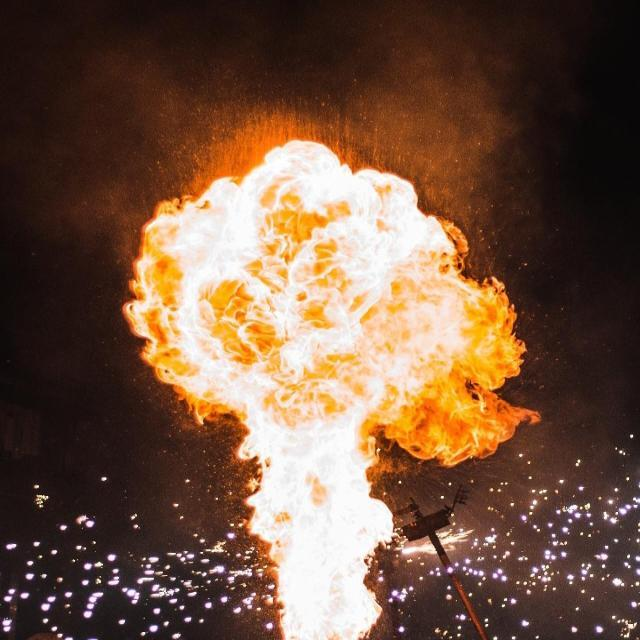Fire: (231, 106, 519, 490), (117, 154, 271, 446), (246, 344, 390, 636)
